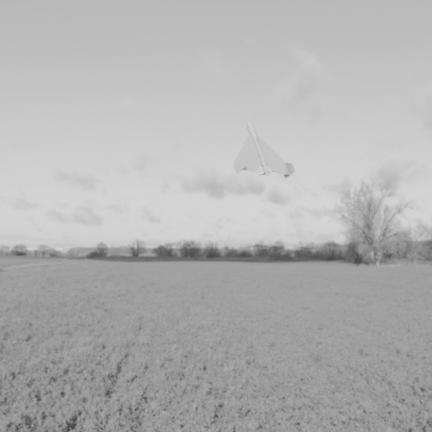Shahed: (236, 120, 295, 177)
